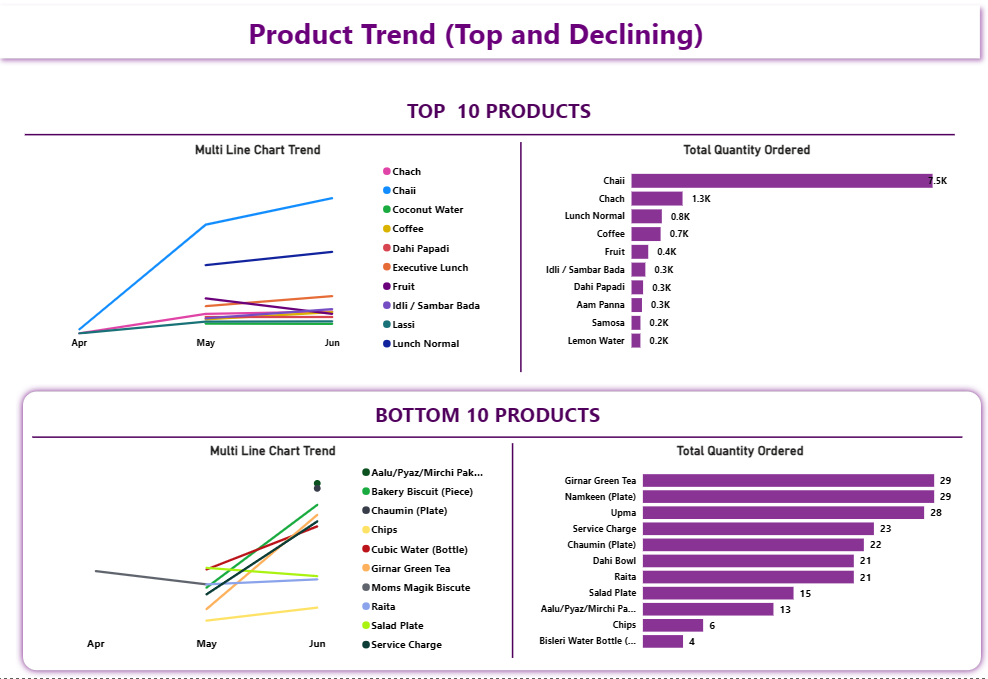

Layout of this report page (visuals, bound fields, positions):
{"tool":"powerbi","page":{"name":"Page 2","canvas":[1320,900],"ordinal":2},"visuals":[{"type":"shape","box":[34,512,1286,388],"z":1000},{"type":"clusteredBarChart","title":"Total Quantity Ordered","fields":{"Y":["Measures table.Total Quantity"],"Category":["Product Dimension.Name"]},"box":[728,192,546,286],"z":2000},{"type":"lineChart","title":"Multi Line Chart Trend","fields":{"Y":["Measures table.Total Revenue"],"Category":["Orders Dimension.Month"],"Series":["Product Dimension.Name"]},"box":[46,192,616,284],"z":3000},{"type":"shape","box":[0,0,1320,92],"z":6000},{"type":"textbox","box":[322,16,642,60],"z":7000},{"type":"shape","box":[686,590,10,284],"z":8000},{"type":"shape","box":[696,192,12,304],"z":10000},{"type":"clusteredBarChart","title":"Total Quantity Ordered","fields":{"Y":["Measures table.Total Quantity"],"Category":["Product Dimension.Name"]},"box":[708,590,568,284],"z":11000},{"type":"lineChart","title":"Multi Line Chart Trend","fields":{"Y":["Measures table.Total Revenue"],"Category":["Orders Dimension.Month"],"Series":["Product Dimension.Name"]},"box":[76,590,596,284],"z":13000},{"type":"shape","box":[46,174,1230,16],"z":14000},{"type":"textbox","box":[348,126,650,48],"z":15000},{"type":"shape","box":[56,574,1230,16],"z":16000},{"type":"textbox","box":[430,528,456,46],"z":17000}]}

Visuals, with their boxes in screenshot pixels (x1, y1, x2, y2), scaled from the page's 1320x900 canvas onto the 988x679 screenshot:
shape: x1=25, y1=386, x2=987, y2=678
"Total Quantity Ordered" clusteredBarChart: x1=545, y1=145, x2=954, y2=361
"Multi Line Chart Trend" lineChart: x1=34, y1=145, x2=495, y2=359
shape: x1=0, y1=0, x2=987, y2=69
textbox: x1=241, y1=12, x2=722, y2=57
shape: x1=513, y1=445, x2=521, y2=659
shape: x1=521, y1=145, x2=530, y2=374
"Total Quantity Ordered" clusteredBarChart: x1=530, y1=445, x2=955, y2=659
"Multi Line Chart Trend" lineChart: x1=57, y1=445, x2=503, y2=659
shape: x1=34, y1=131, x2=955, y2=143
textbox: x1=260, y1=95, x2=747, y2=131
shape: x1=42, y1=433, x2=963, y2=445
textbox: x1=322, y1=398, x2=663, y2=433
